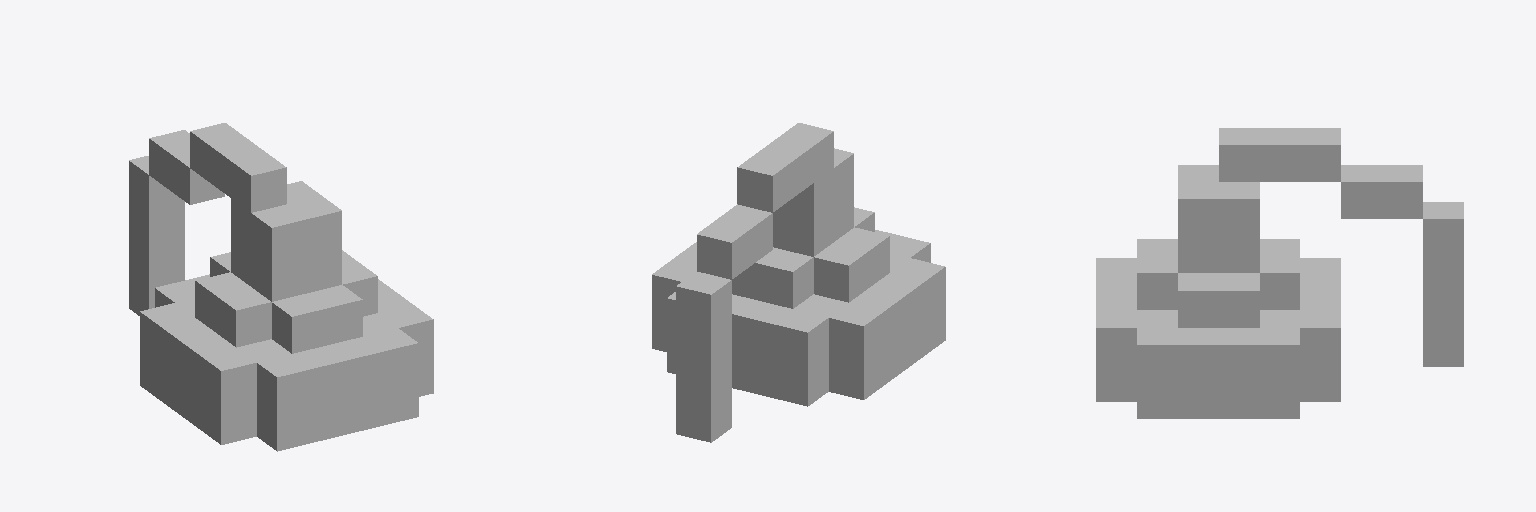
Rendered from bobber.obj.
The picture shows the model from 3 angles: view 1: azimuth 30°, elevation 25°; view 2: azimuth 150°, elevation 25°; view 3: azimuth 270°, elevation 25°; orthographic projection.
Parts seen in each view (by area): view 1: object 1; view 2: object 1; view 3: object 1.
Boxes of the visible parts, x1=… form: object 1: x1=129, y1=123, x2=433, y2=451; object 1: x1=652, y1=123, x2=945, y2=442; object 1: x1=1096, y1=128, x2=1463, y2=418.
Size of the model in its own units: 0.6 by 0.6 by 0.9.